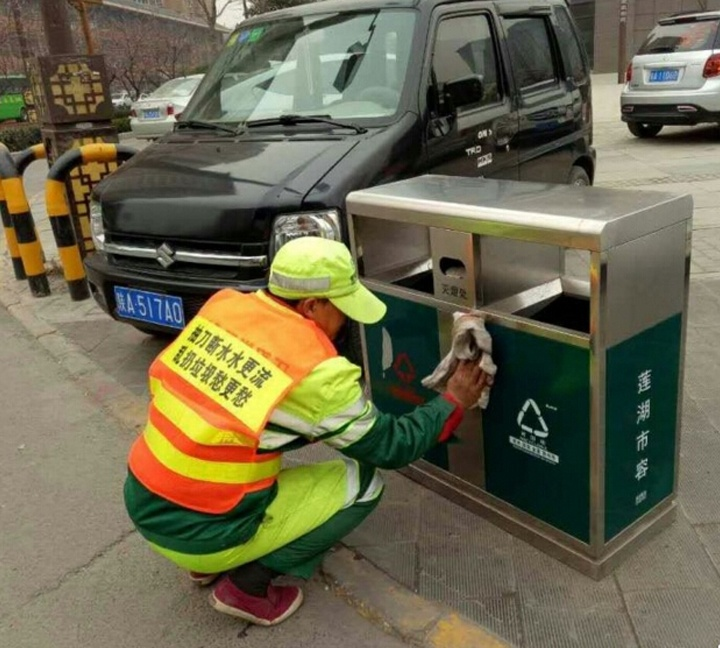person with partial safety: (123, 240, 451, 624)
safety vest: (149, 295, 320, 511)
